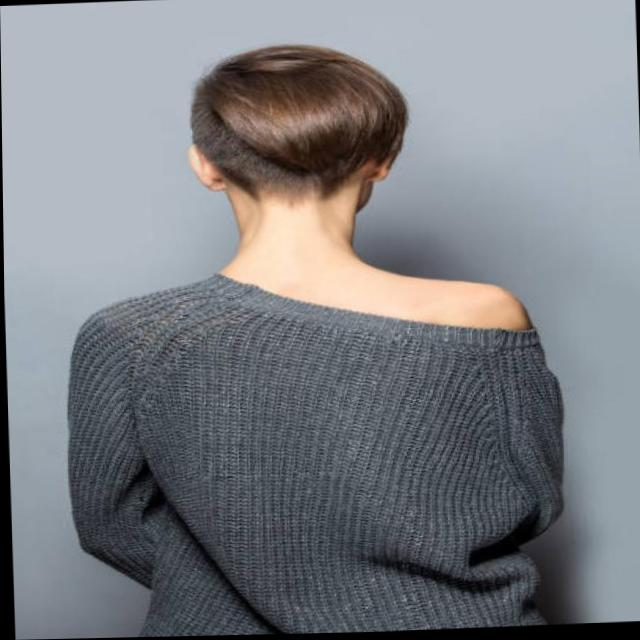no helmet: (190, 41, 412, 244)
